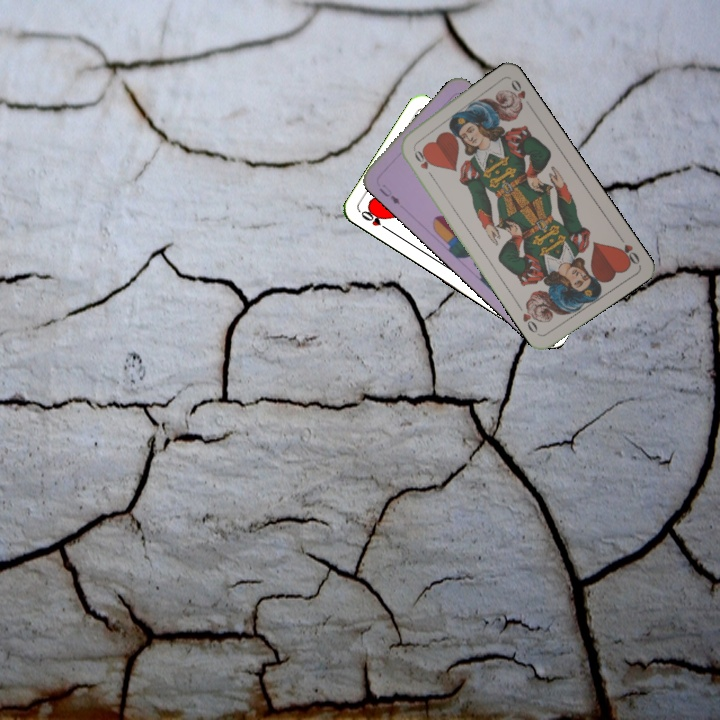EU: (375, 181, 402, 207)
HO: (614, 231, 642, 268), (357, 206, 393, 234), (409, 143, 436, 180)
